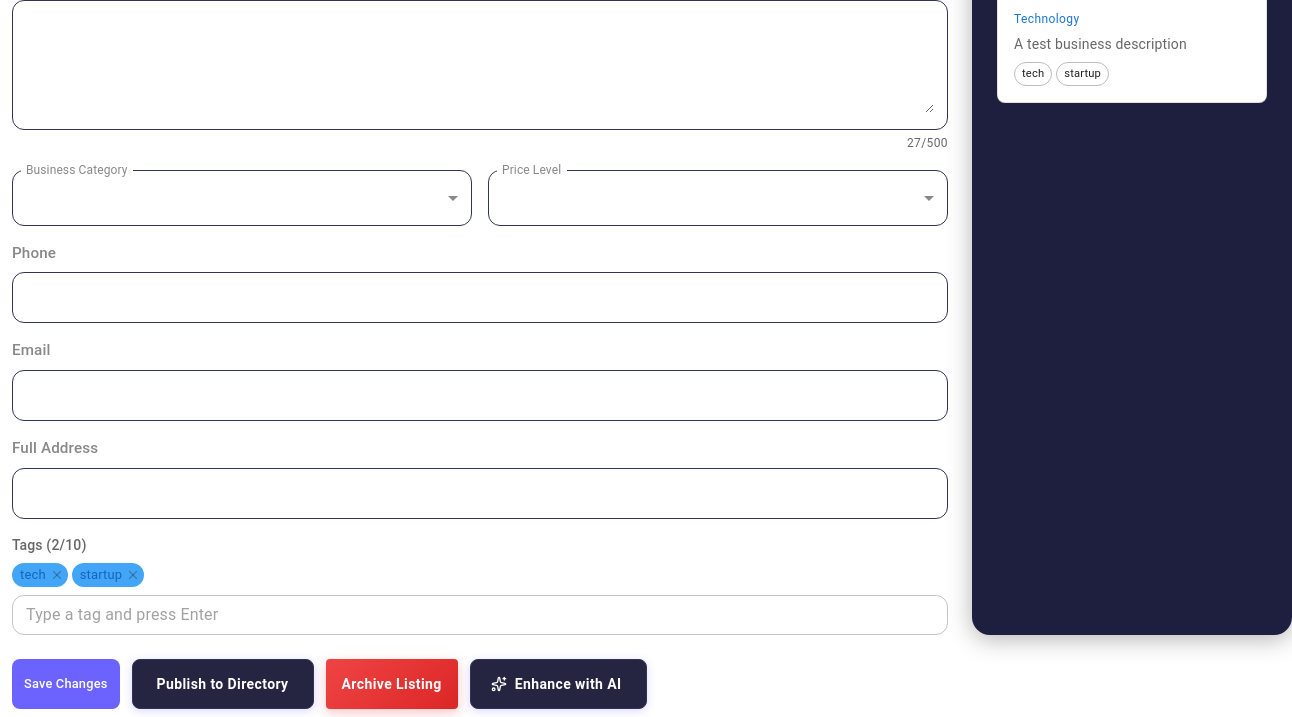
it: ListingEditTab › adds a tag when typing and pressing Enter
(page scrolled)
In the field with placeholder "Type a tag and press Enter": point(480, 615) [12,595,948,635], type "newtag"
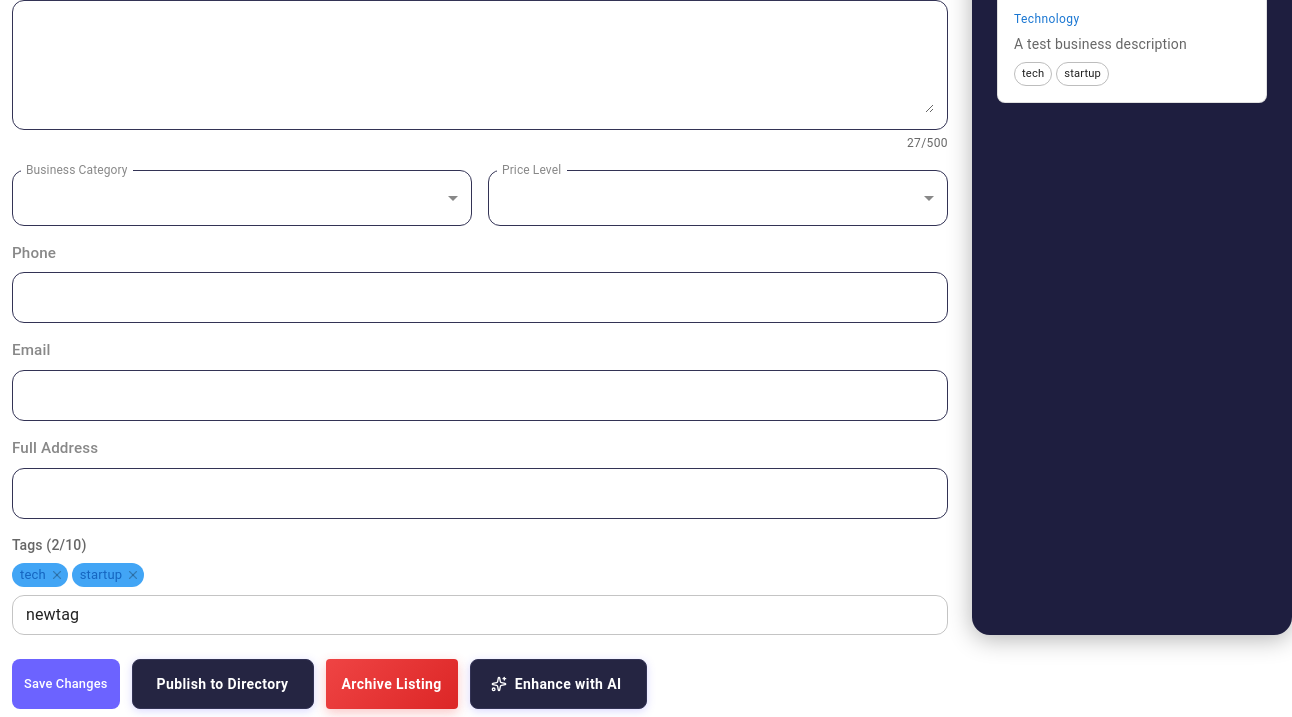
Press Enter in the 4th field, box [12,595,948,635]
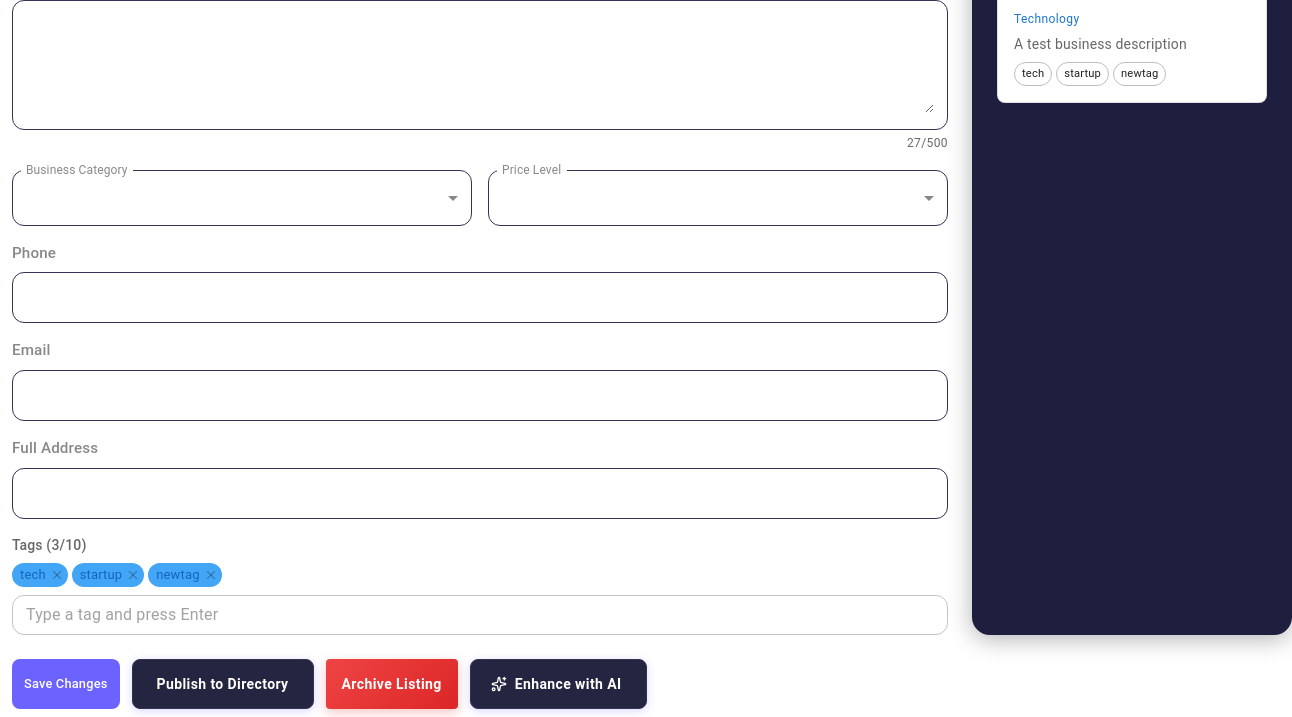
Expected: the number of buttons with test id "tag-chip" is 3, [12,563,68,587]; [72,563,144,587]; [148,563,222,587]
